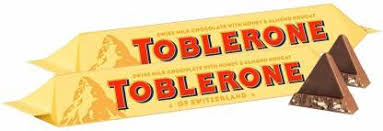Chocolate: (2, 1, 383, 131)
